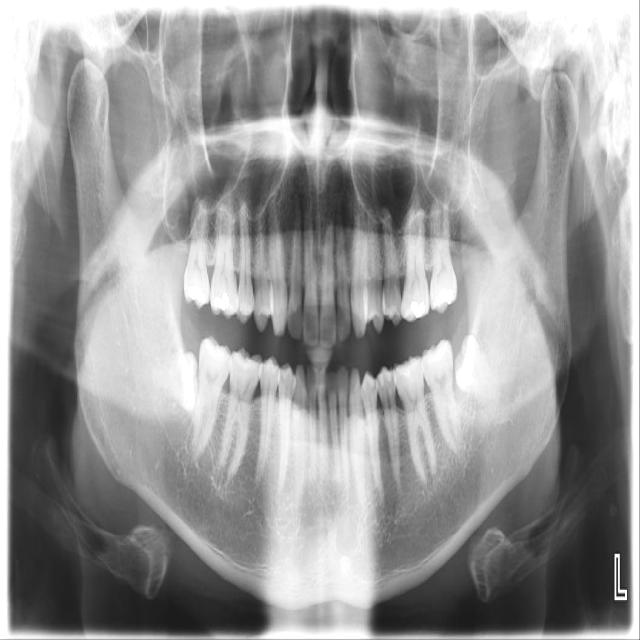Filling: (203, 340, 226, 361), (211, 290, 232, 312), (397, 360, 419, 380), (234, 352, 258, 370), (186, 285, 206, 304), (408, 296, 426, 317), (360, 375, 376, 396), (376, 372, 394, 389), (438, 289, 454, 305), (264, 362, 278, 375)
impacted tooth: (453, 333, 503, 399), (139, 353, 194, 410)
